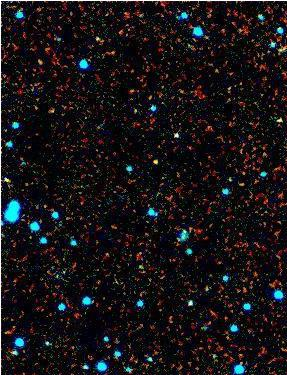star: (142, 146, 172, 176)
